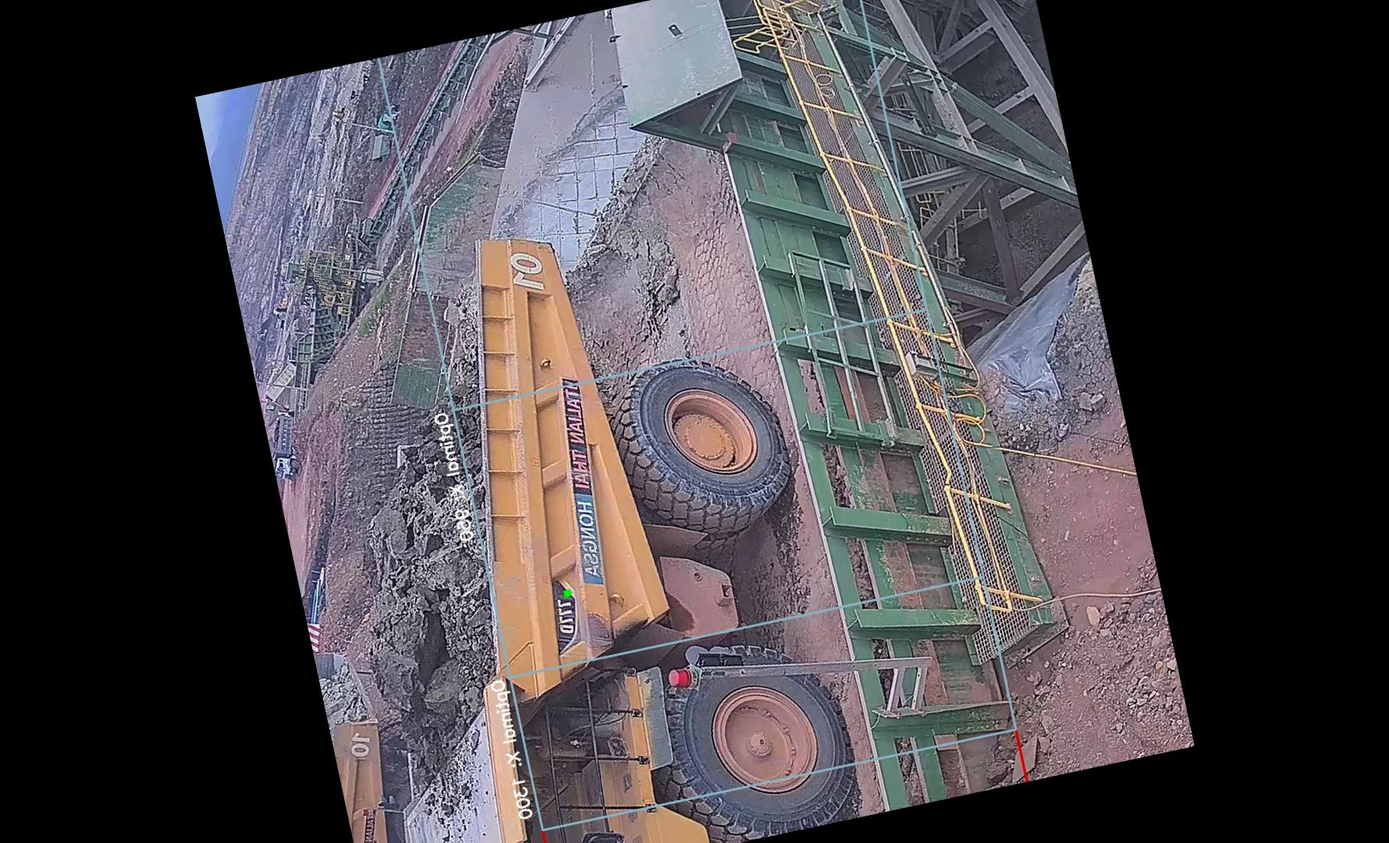company: (534, 371, 623, 596)
full_load: (313, 427, 530, 760)
mining_truck: (254, 179, 866, 843)
tail_number: (492, 230, 565, 313)
truck_size: (536, 574, 588, 653)
